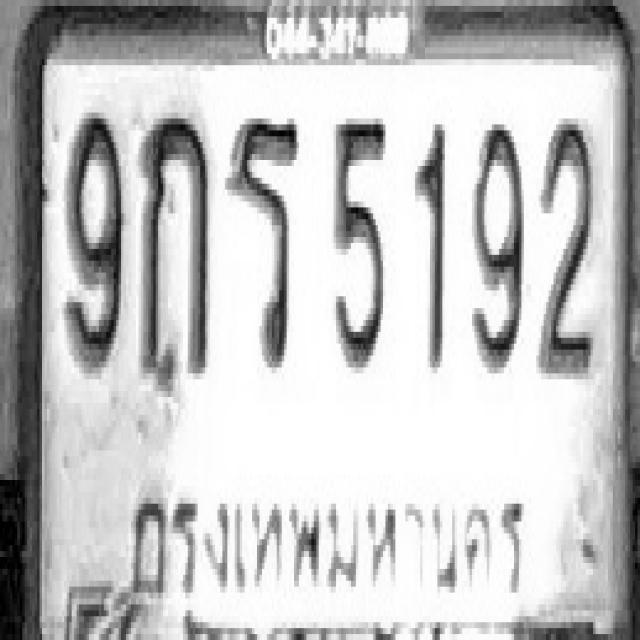1: (412, 116, 444, 370)
10GorGai: (141, 113, 210, 385)
2: (536, 116, 593, 376)
44RorRuea: (226, 110, 298, 370)
5: (331, 110, 386, 370)
9: (66, 110, 122, 370), (470, 119, 522, 374)
Bangkok: (127, 461, 530, 624)
